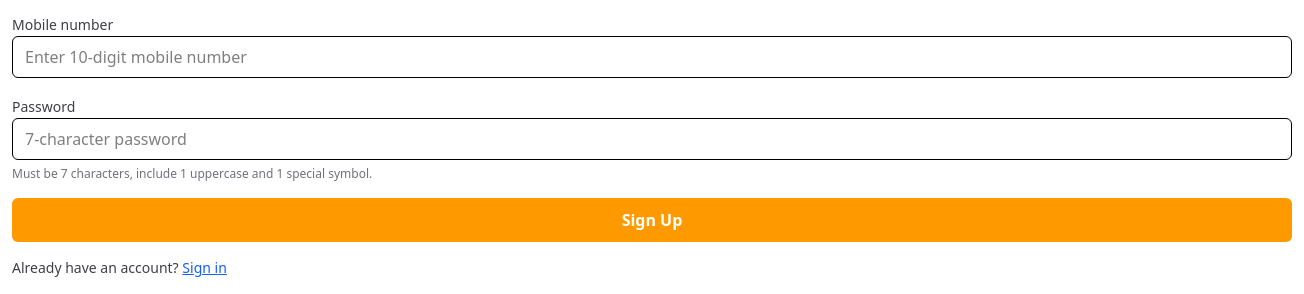
it: SignUpForm › sanitizes mobile to digits and clamps to 10
The width and height of the screenshot is (1304, 294).
// Provide 11 digits mixed with non-digits so, after sanitization, we have 10 digits kept.
Type "abc1234-56789-0xyz" into the field labelled "Mobile number".
click(652, 57); type("abc1234-56789-0xyz")  # box [12, 36, 1292, 78]
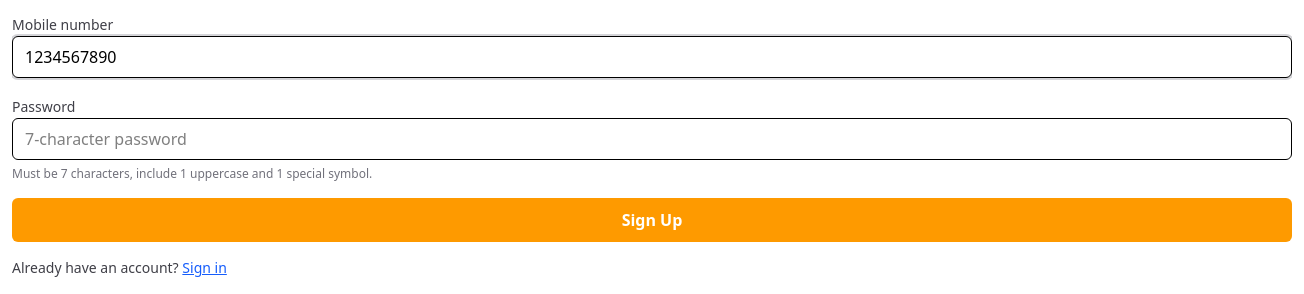
Check: the field labelled "Mobile number" holds "1234567890", box [12, 36, 1292, 78]
